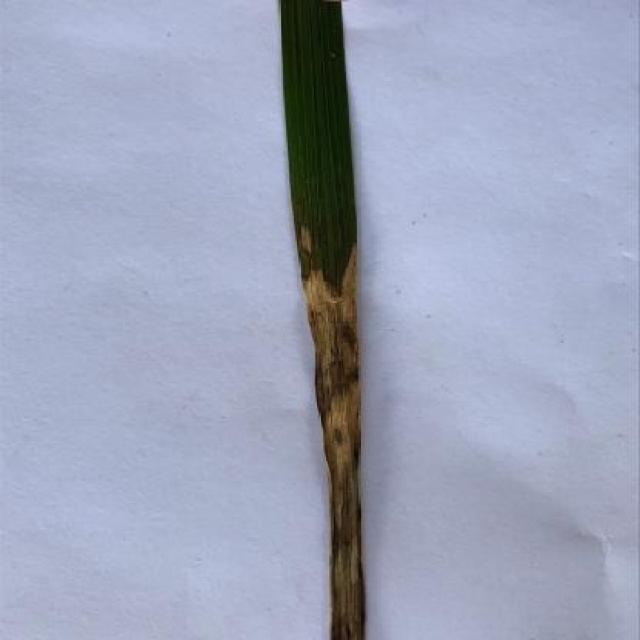Brown_Spot: (266, 0, 376, 640)
